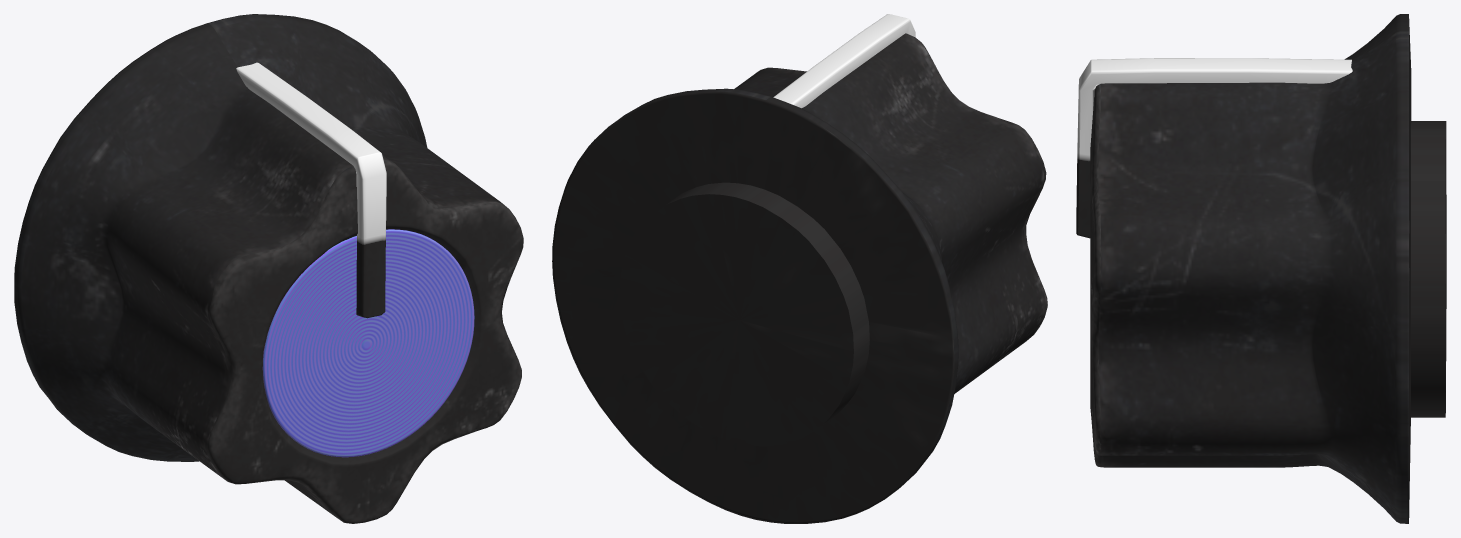
Rendered from Knob_16.dae.
3 views of the same model, side by side, from view 1: azimuth 30°, elevation 25°; view 2: azimuth 150°, elevation 25°; view 3: azimuth 270°, elevation 25° (orthographic). The views are drawn at different scales.
Parts seen in each view (by area): view 1: Knob_16_part_01_LOD0, Knob_16_part_02_LOD0; view 2: Knob_16_part_01_LOD0; view 3: Knob_16_part_01_LOD0.
Part boxes in pixels (x1,y1,x2,y2): Knob_16_part_01_LOD0: (14, 14, 523, 523); Knob_16_part_02_LOD0: (262, 229, 474, 457); Knob_16_part_01_LOD0: (552, 14, 1047, 523); Knob_16_part_01_LOD0: (1076, 14, 1446, 523).
Size of the model in its own units: 24.4 by 24.48 by 17.75.
